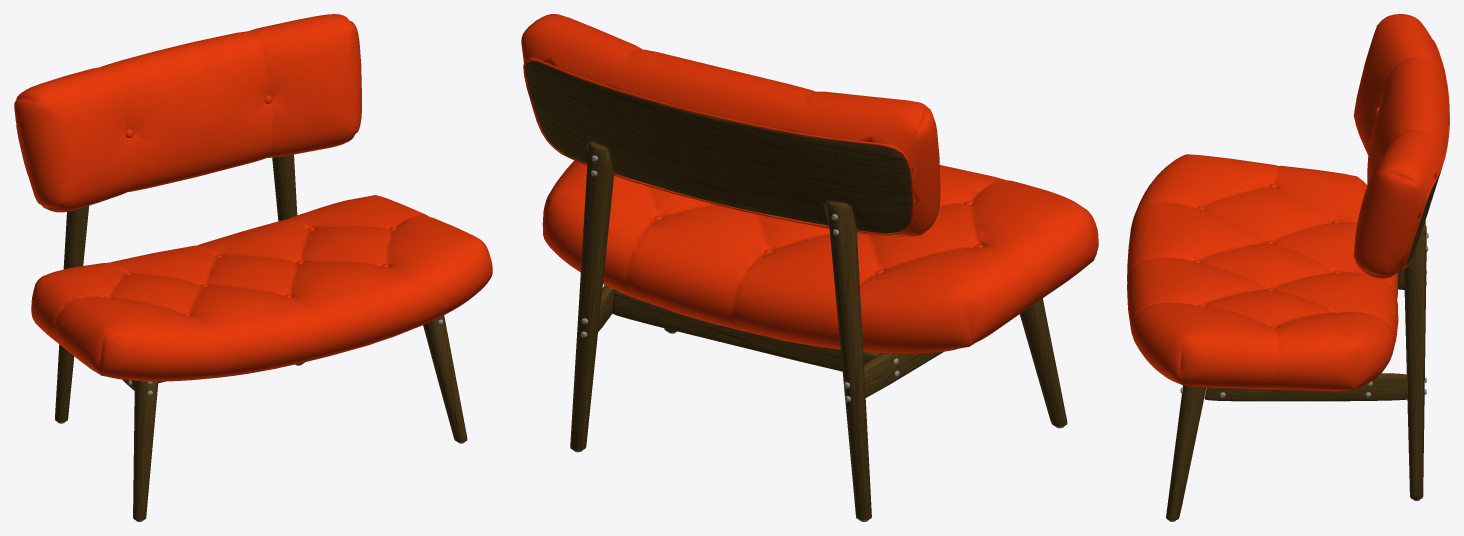
File: chair.glb
3 renders of one model, left to right at view 1: azimuth 30°, elevation 25°; view 2: azimuth 150°, elevation 25°; view 3: azimuth 270°, elevation 25°, orthographic. The views are drawn at different scales.
Visible parts, largest first — view 1: SheenChair_fabric, SheenChair_wood; view 2: SheenChair_fabric, SheenChair_wood; view 3: SheenChair_fabric, SheenChair_wood.
Part boxes in pixels (x1,y1,x2,y2): SheenChair_fabric: (14,14,492,381); SheenChair_wood: (55,154,467,520); SheenChair_fabric: (521,14,1098,354); SheenChair_wood: (525,61,1067,520); SheenChair_fabric: (1127,14,1449,391); SheenChair_wood: (1166,168,1441,520).
Size of the model in its own units: 0.8266 by 0.6861 by 0.5699.
Materials: 4 (3 with a texture image).
